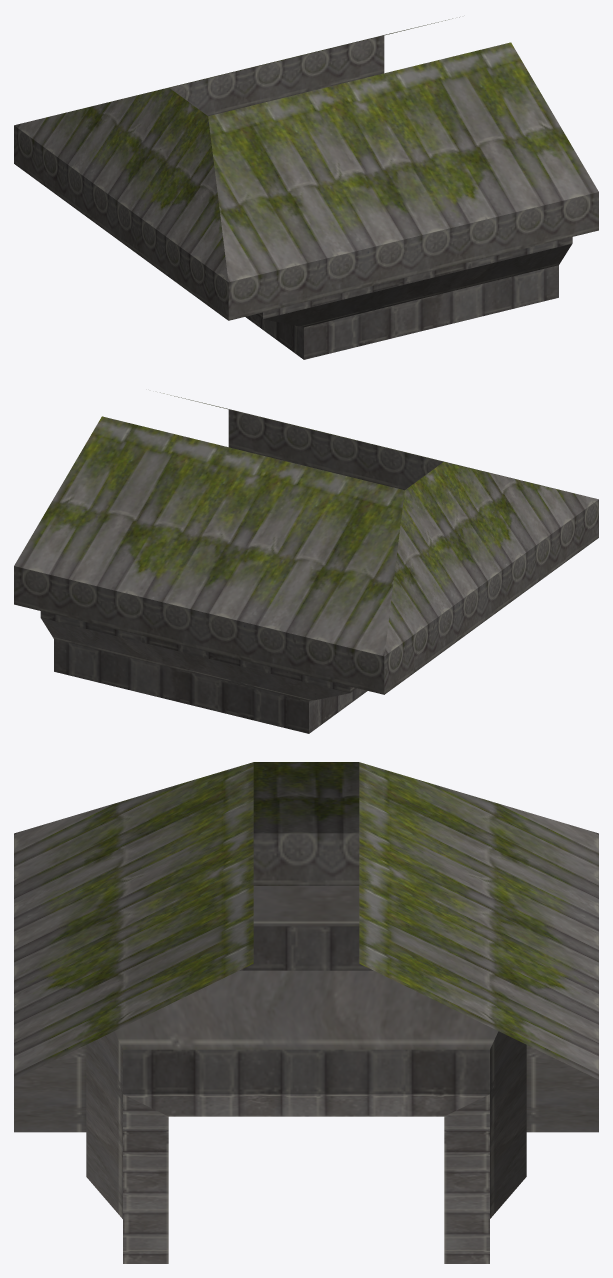
Rendered from b_zx_qiangbi01_01_01_lod1.FBX.
The picture shows the model from 3 angles, top to bottom: view 1: azimuth 30°, elevation 25°; view 2: azimuth 150°, elevation 25°; view 3: azimuth 270°, elevation 25°; orthographic projection. The views are drawn at different scales.
Parts seen in each view (by area): view 1: b_zx_qiangbi01_01_01_lod1; view 2: b_zx_qiangbi01_01_01_lod1; view 3: b_zx_qiangbi01_01_01_lod1.
Part boxes in pixels (<box>): b_zx_qiangbi01_01_01_lod1: <box>14,17,598,359</box>; b_zx_qiangbi01_01_01_lod1: <box>14,392,598,733</box>; b_zx_qiangbi01_01_01_lod1: <box>14,762,598,1263</box>.
Size of the model in its own units: 2.63 by 1.49 by 2.64.
